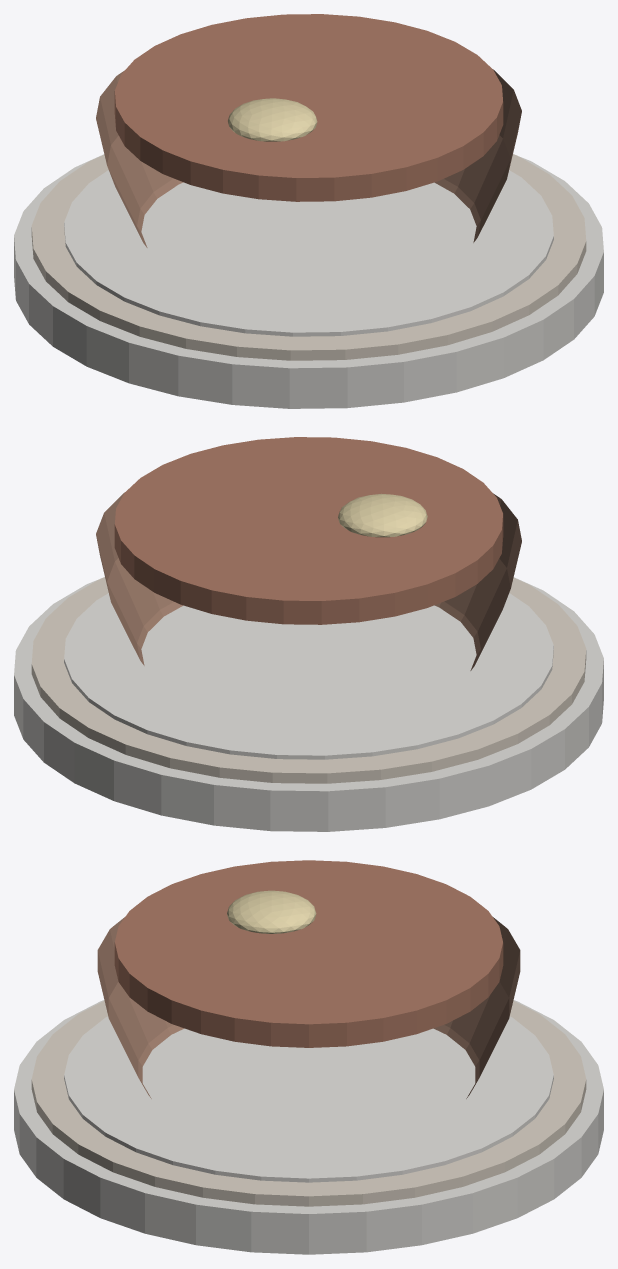
Rendered from sot_bbq.glb.
3 renders of one model, top to bottom at view 1: azimuth 30°, elevation 25°; view 2: azimuth 150°, elevation 25°; view 3: azimuth 270°, elevation 25°, orthographic.
Visible parts, largest first — view 1: obj_0002, obj_0004, obj_0000, obj_0001, obj_0003, obj_0005; view 2: obj_0002, obj_0004, obj_0000, obj_0001, obj_0003, obj_0005; view 3: obj_0002, obj_0004, obj_0000, obj_0001, obj_0003, obj_0005.
Boxes of the visible parts, x1,y1,x2,y2 form: obj_0002: [64, 170, 553, 336]; obj_0004: [114, 14, 503, 201]; obj_0000: [14, 154, 603, 408]; obj_0001: [31, 154, 586, 360]; obj_0003: [96, 69, 521, 247]; obj_0005: [228, 98, 317, 141]; obj_0002: [64, 593, 553, 759]; obj_0004: [114, 437, 503, 624]; obj_0000: [14, 577, 603, 831]; obj_0001: [31, 577, 586, 783]; obj_0003: [96, 492, 521, 670]; obj_0005: [338, 493, 427, 537]; obj_0002: [64, 1016, 553, 1182]; obj_0004: [114, 860, 503, 1047]; obj_0000: [14, 1000, 603, 1254]; obj_0001: [31, 1000, 586, 1206]; obj_0003: [97, 917, 520, 1098]; obj_0005: [227, 890, 316, 933].
Bounding box in the file's own units: 1.58 × 0.6 × 1.58.
